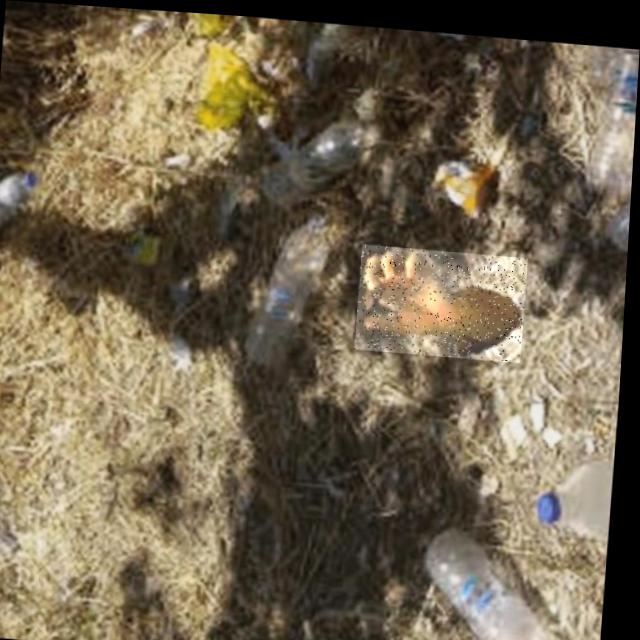Person in Rubble: (358, 238, 531, 354)
